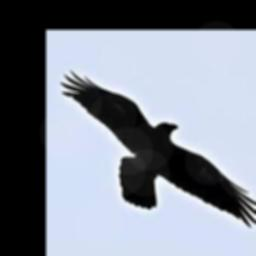Crow: (60, 69, 256, 229)
